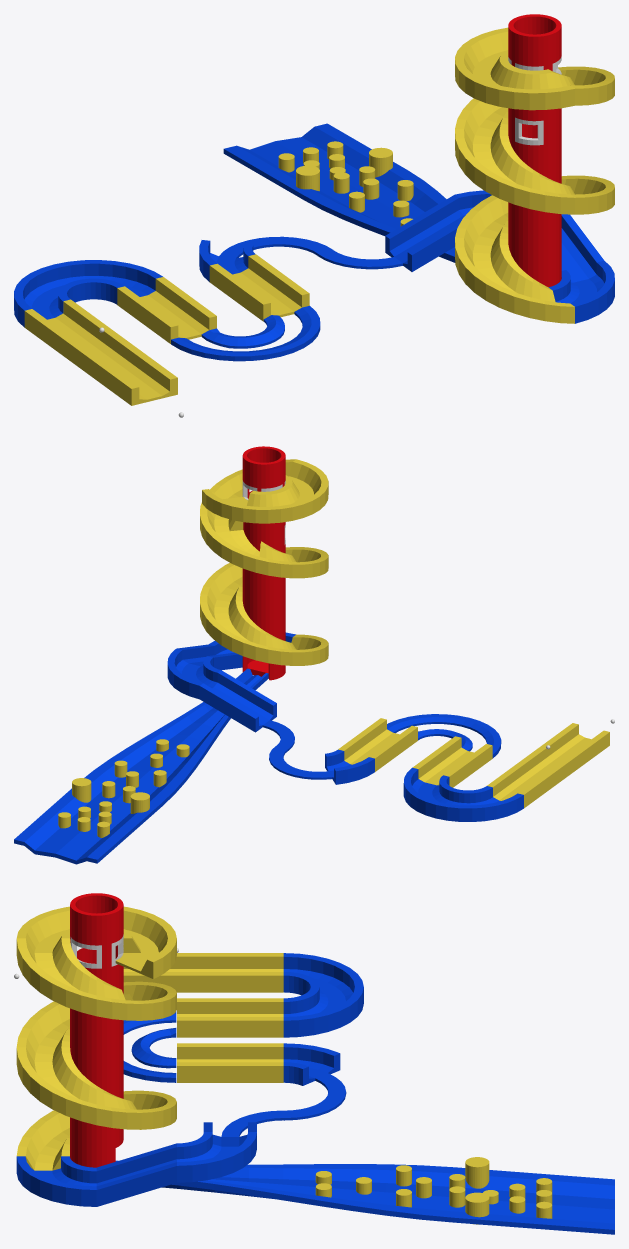
File: BasicLace_ver3.fbx
3 views of the same model, one above another, from view 1: azimuth 30°, elevation 25°; view 2: azimuth 150°, elevation 25°; view 3: azimuth 270°, elevation 25° (orthographic). The views are drawn at different scales.
Parts seen in each view (by area): view 1: Cylinder.017, Cylinder.020, Cube.016, Cylinder.018, Cylinder.019, Cylinder.006, Cylinder, StraightRoad, Cube.014, Cube.006, Cylinder.013, Cube.011 (+6 smaller); view 2: Cube.016, Cylinder.017, Cylinder.020, Cylinder.018, Cylinder.019, Cylinder.006, Cylinder, Cube.011, Cube.006, StraightRoad, Cube.014, Cube.012 (+5 smaller); view 3: Cube.016, Cylinder.017, Cylinder.018, Cylinder.020, Cylinder.006, Cylinder.019, Cylinder, Cube.006, Cube.012, Cube.014, Cube.015, Cylinder.014 (+7 smaller).
Part boxes in pixels (left/top/right/bottom): Cylinder.017: left=455, top=175, right=614, bottom=323; Cylinder.020: left=508, top=14, right=561, bottom=265; Cube.016: left=223, top=123, right=455, bottom=262; Cylinder.018: left=455, top=66, right=614, bottom=214; Cylinder.019: left=455, top=27, right=574, bottom=110; Cylinder.006: left=14, top=260, right=162, bottom=327; Cylinder: left=278, top=141, right=413, bottom=226; StraightRoad: left=78, top=338, right=177, bottom=405; Cube.014: left=209, top=254, right=309, bottom=321; Cube.006: left=117, top=277, right=216, bottom=343; Cylinder.013: left=171, top=305, right=320, bottom=361; Cube.011: left=385, top=194, right=464, bottom=271; Cube.016: left=14, top=668, right=268, bottom=864; Cylinder.017: left=200, top=547, right=328, bottom=665; Cylinder.020: left=242, top=446, right=285, bottom=640; Cylinder.018: left=200, top=459, right=328, bottom=578; Cylinder.019: left=202, top=459, right=328, bottom=523; Cylinder.006: left=403, top=767, right=523, bottom=821; Cylinder: left=58, top=739, right=189, bottom=837; Cube.011: left=199, top=670, right=276, bottom=732; Cube.006: left=413, top=736, right=492, bottom=787; StraightRoad: left=530, top=723, right=609, bottom=776; Cube.014: left=338, top=718, right=417, bottom=771; Cube.012: left=487, top=754, right=566, bottom=808; Cube.016: left=115, top=1160, right=614, bottom=1234; Cylinder.017: left=16, top=1047, right=176, bottom=1170; Cylinder.018: left=16, top=938, right=176, bottom=1061; Cylinder.020: left=70, top=893, right=123, bottom=1144; Cylinder.006: left=283, top=953, right=363, bottom=1037; Cylinder.019: left=17, top=906, right=176, bottom=978; Cylinder: left=315, top=1157, right=552, bottom=1224; Cube.006: left=177, top=998, right=283, bottom=1037; Cube.012: left=177, top=953, right=283, bottom=992; Cube.014: left=177, top=1043, right=283, bottom=1082; Cube.015: left=96, top=1143, right=176, bottom=1206; Cylinder.014: left=283, top=1043, right=346, bottom=1120.
Size of the model in its own units: 21000 by 12900 by 22501.
